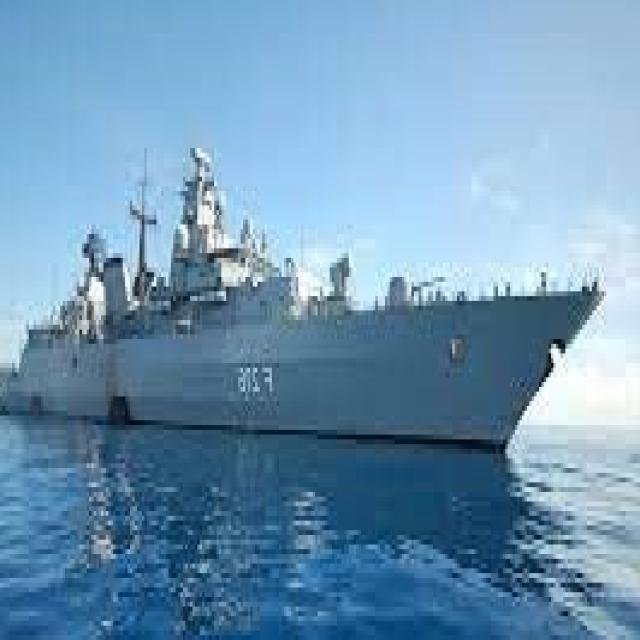navalvessels: (0, 100, 607, 439)
